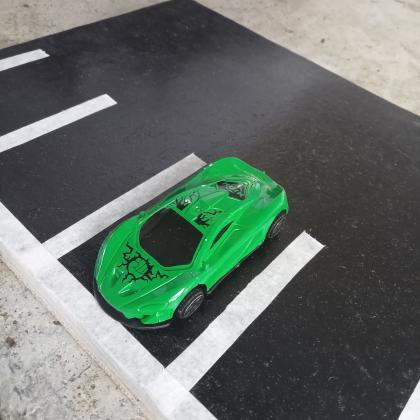Car: (92, 155, 290, 332)
